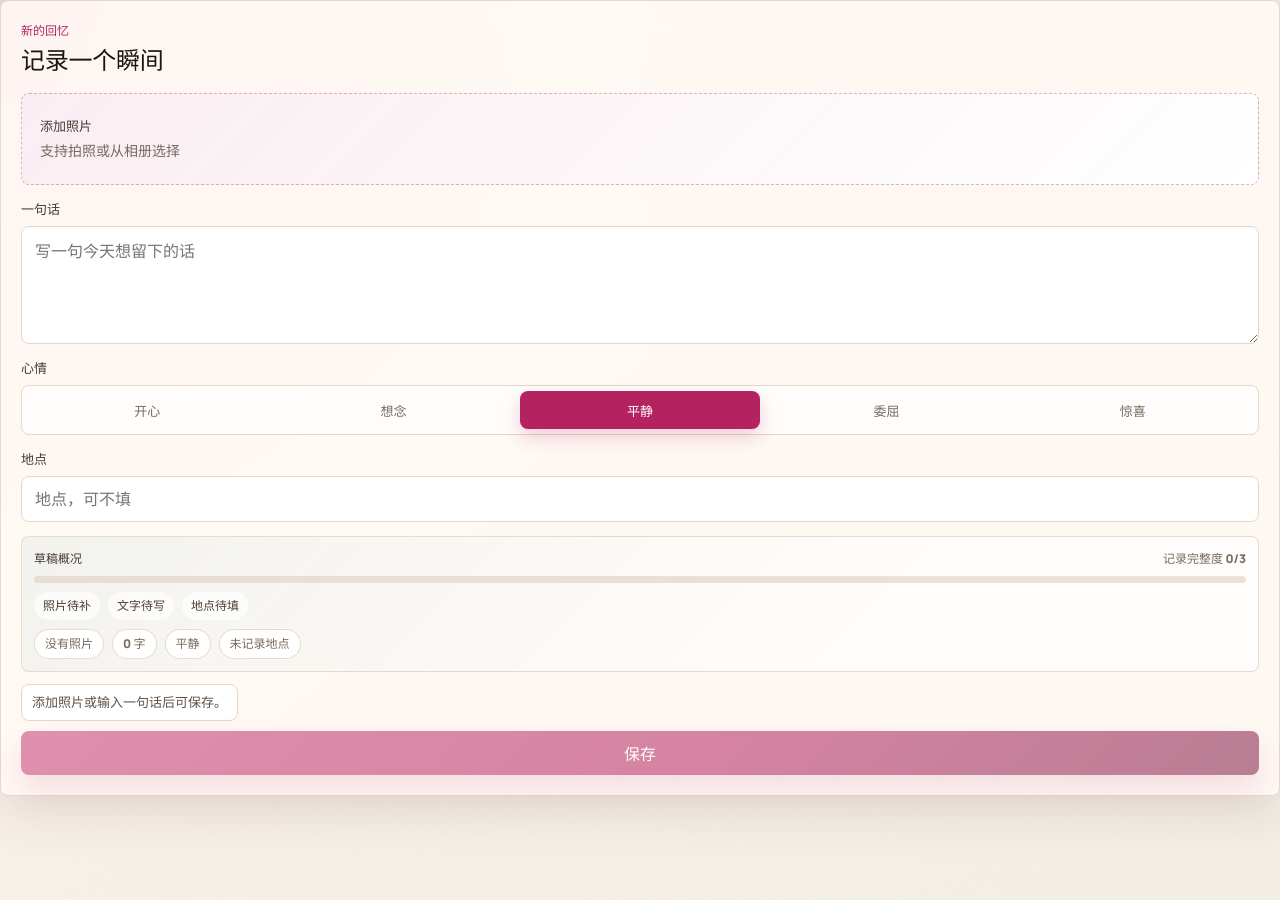
MomentComposer › shows next actions after saving a moment
Type "今天一起散步" into the text box labelled "一句话" at (640, 285), box [21, 226, 1259, 344]
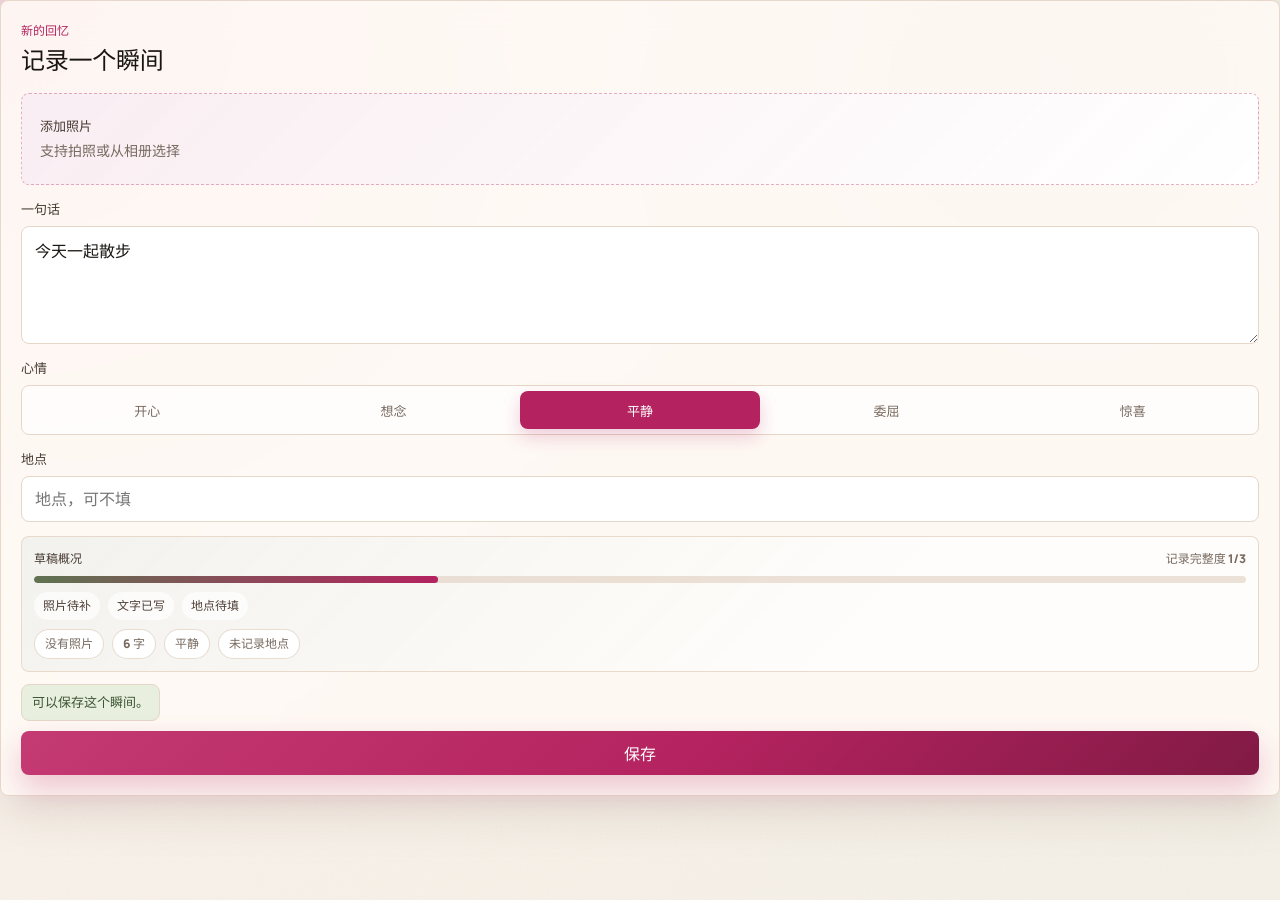
Click the button "保存" at (640, 753), box [21, 731, 1259, 775]
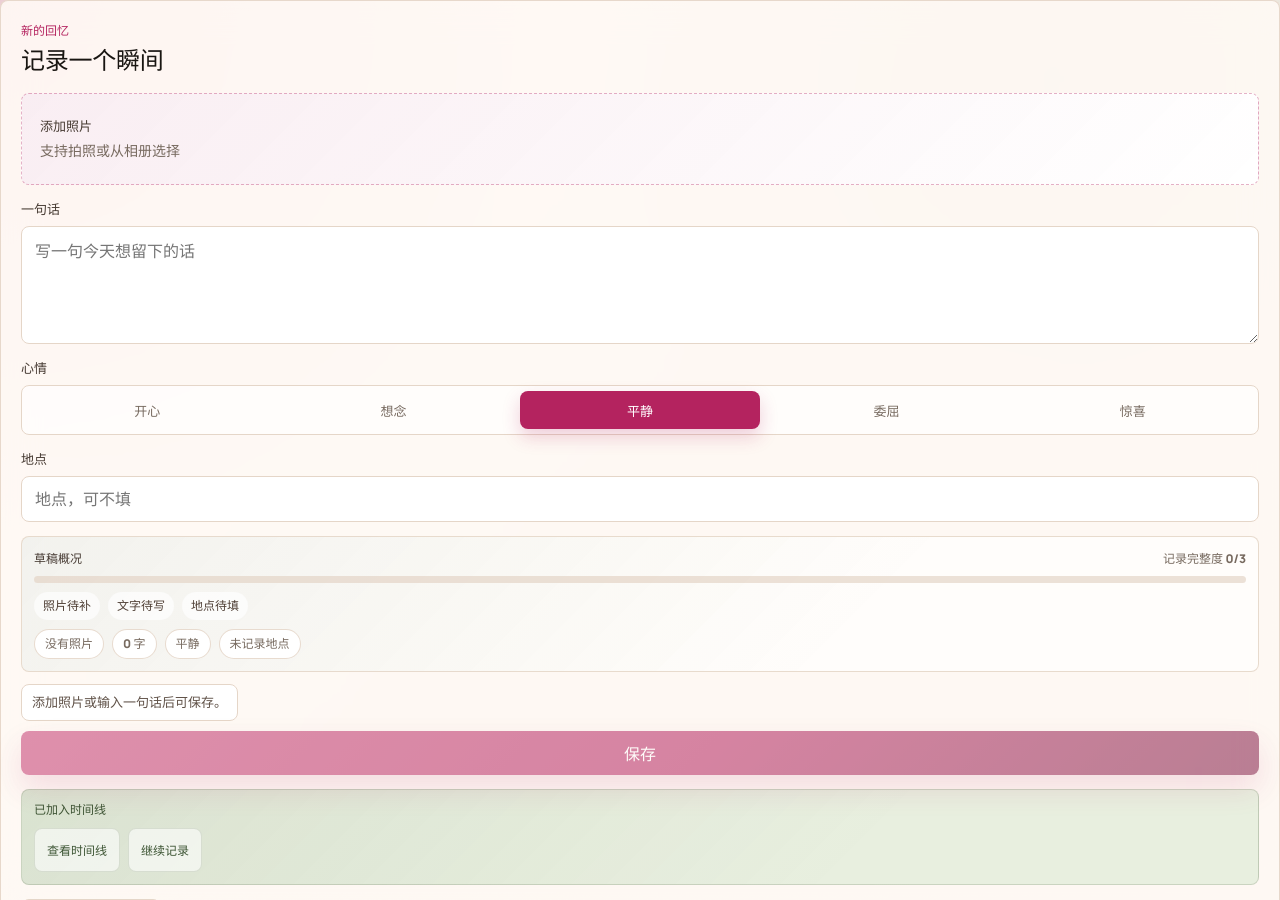
expect the text "已加入时间线" is shown: met, box [34, 801, 106, 818]
Click the button "继续记录" at (165, 850), box [128, 828, 202, 872]
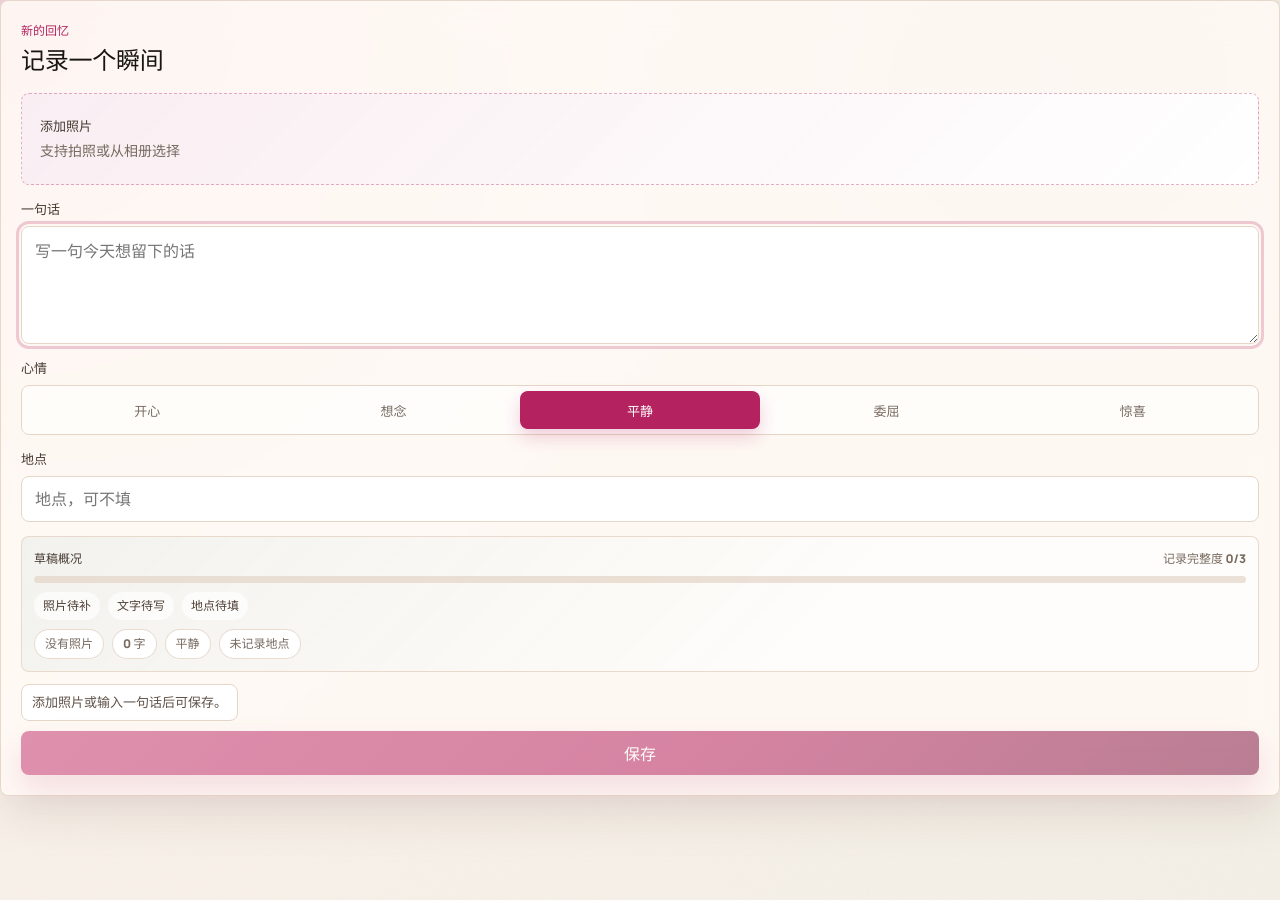
expect the text "已加入时间线" is gone: met
